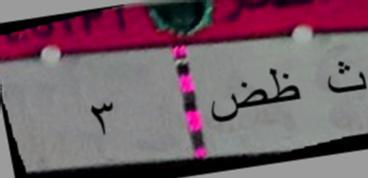3: (86, 87, 127, 147)
Thaa: (266, 61, 306, 111)
daad: (207, 79, 266, 130)
thaa: (320, 54, 368, 101)
